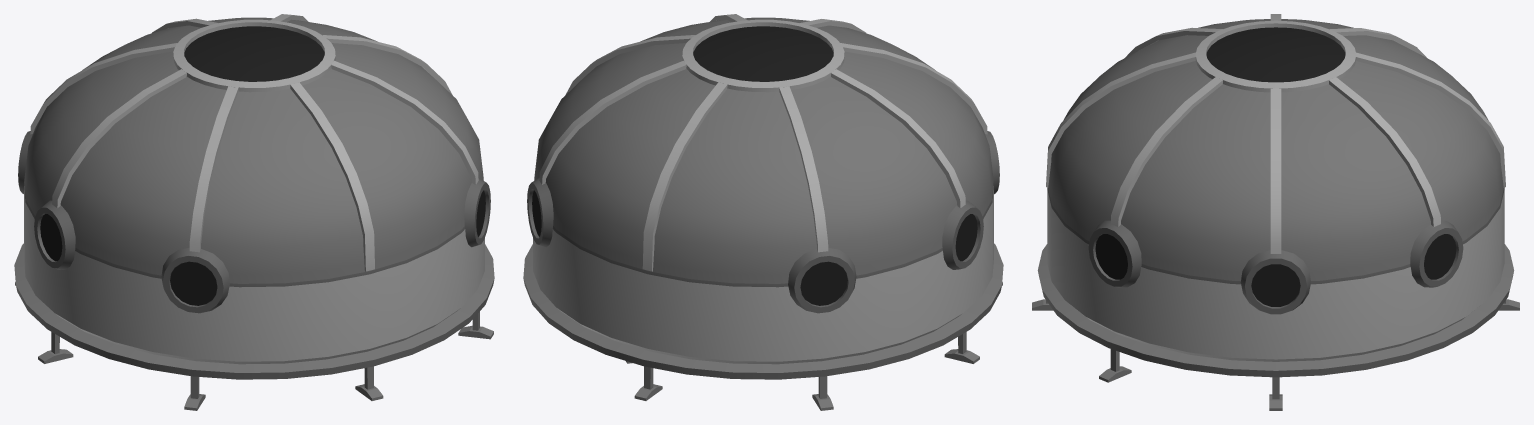
File: Base Large.glb
3 views of the same model, side by side, from view 1: azimuth 30°, elevation 25°; view 2: azimuth 150°, elevation 25°; view 3: azimuth 270°, elevation 25° (orthographic).
Visible parts, largest first — view 1: Base_Large; view 2: Base_Large; view 3: Base_Large.
Boxes of the visible parts, <box> form: Base_Large: <box>14,14,494,410</box>; Base_Large: <box>523,14,1003,410</box>; Base_Large: <box>1032,14,1519,410</box>.
Size of the model in its own units: 8.53 by 4.97 by 8.53.
Materials: 1 (1 with a texture image).
